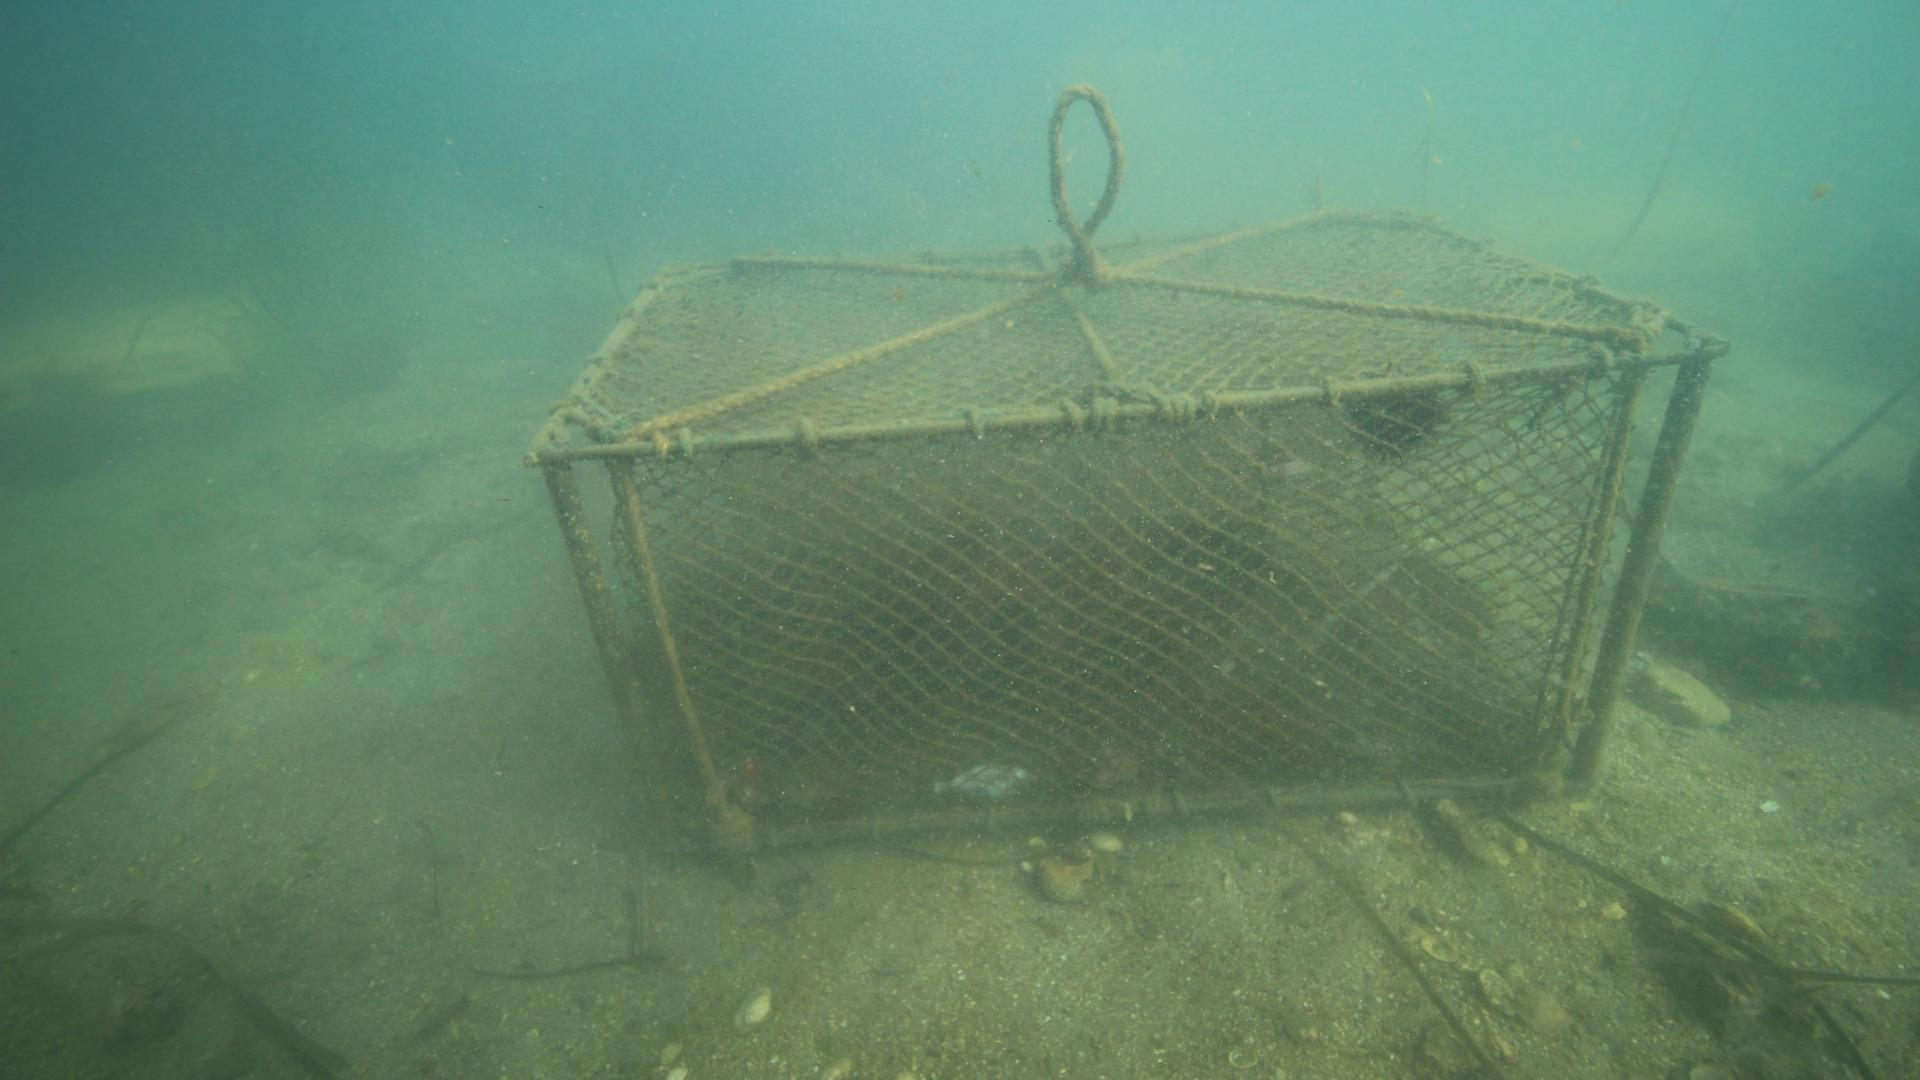bundle of ropes: (1044, 82, 1127, 256)
rectangular fish trap: (525, 204, 1735, 858)
